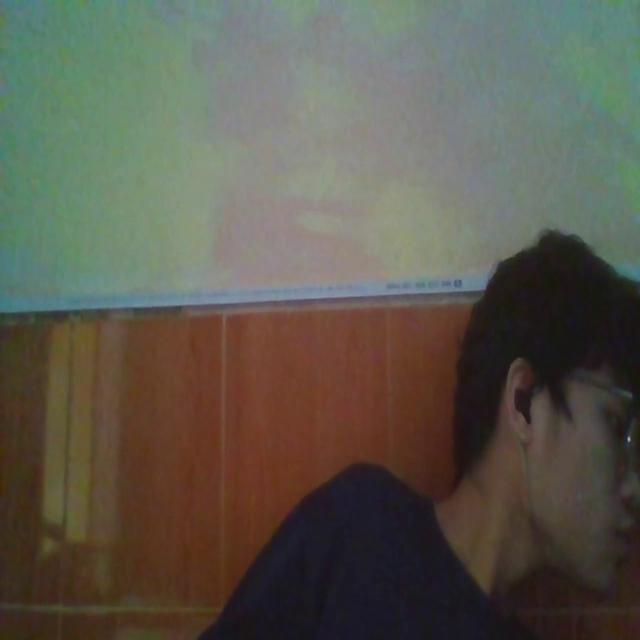student: (188, 219, 639, 640)
